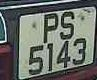1: (45, 44, 55, 73)
3: (70, 37, 86, 65)
4: (56, 40, 71, 69)
5: (27, 45, 45, 76)
P: (40, 10, 60, 44)
S: (58, 9, 76, 42)
